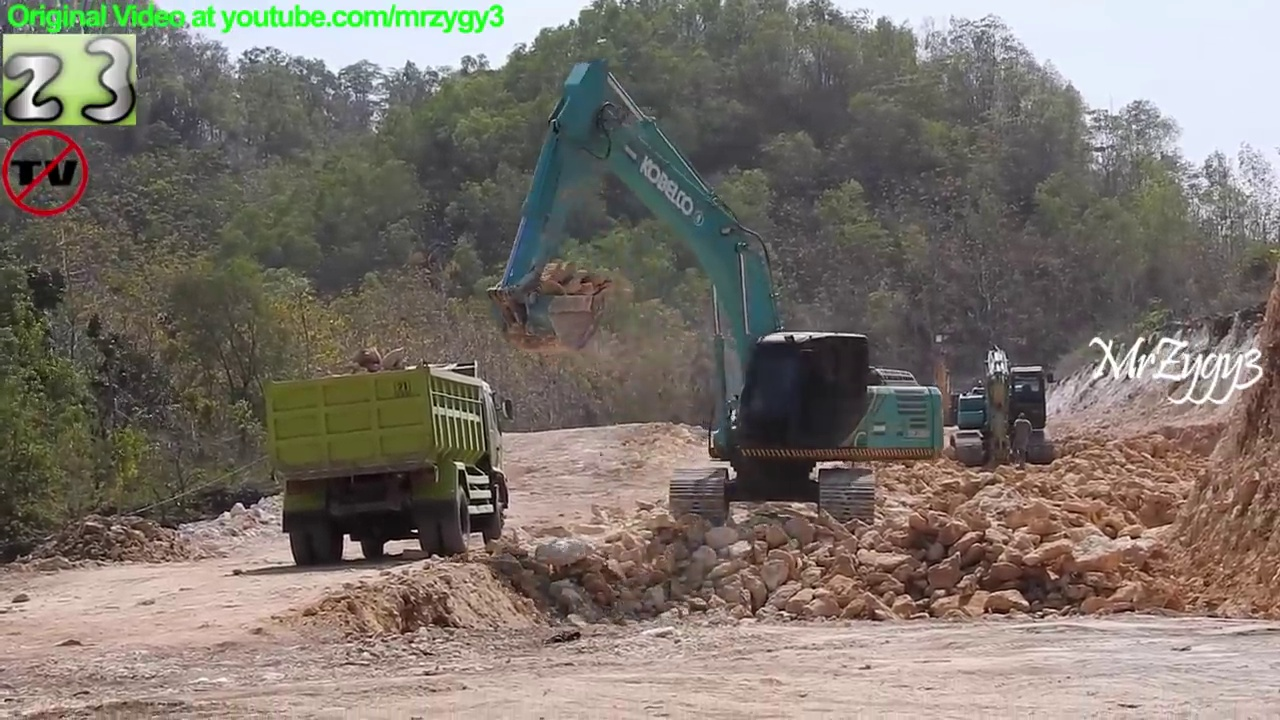excavator: (482, 54, 950, 533), (899, 331, 979, 448)
excavator breaker: (947, 341, 1061, 475)
truck: (261, 358, 519, 571)
worker: (1005, 407, 1040, 474)
